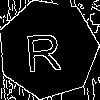R: (23, 24, 63, 73)
